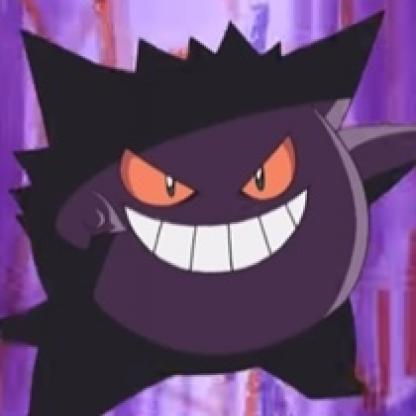Gengar: (1, 5, 415, 415)
